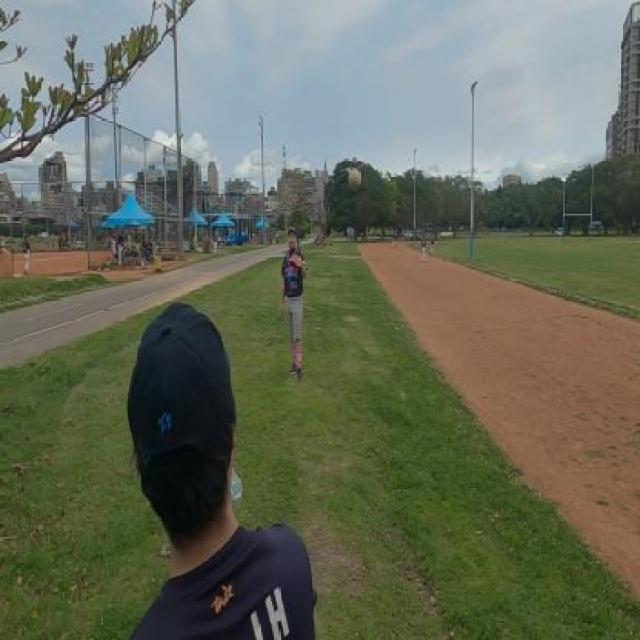baseball: (348, 168, 362, 192)
